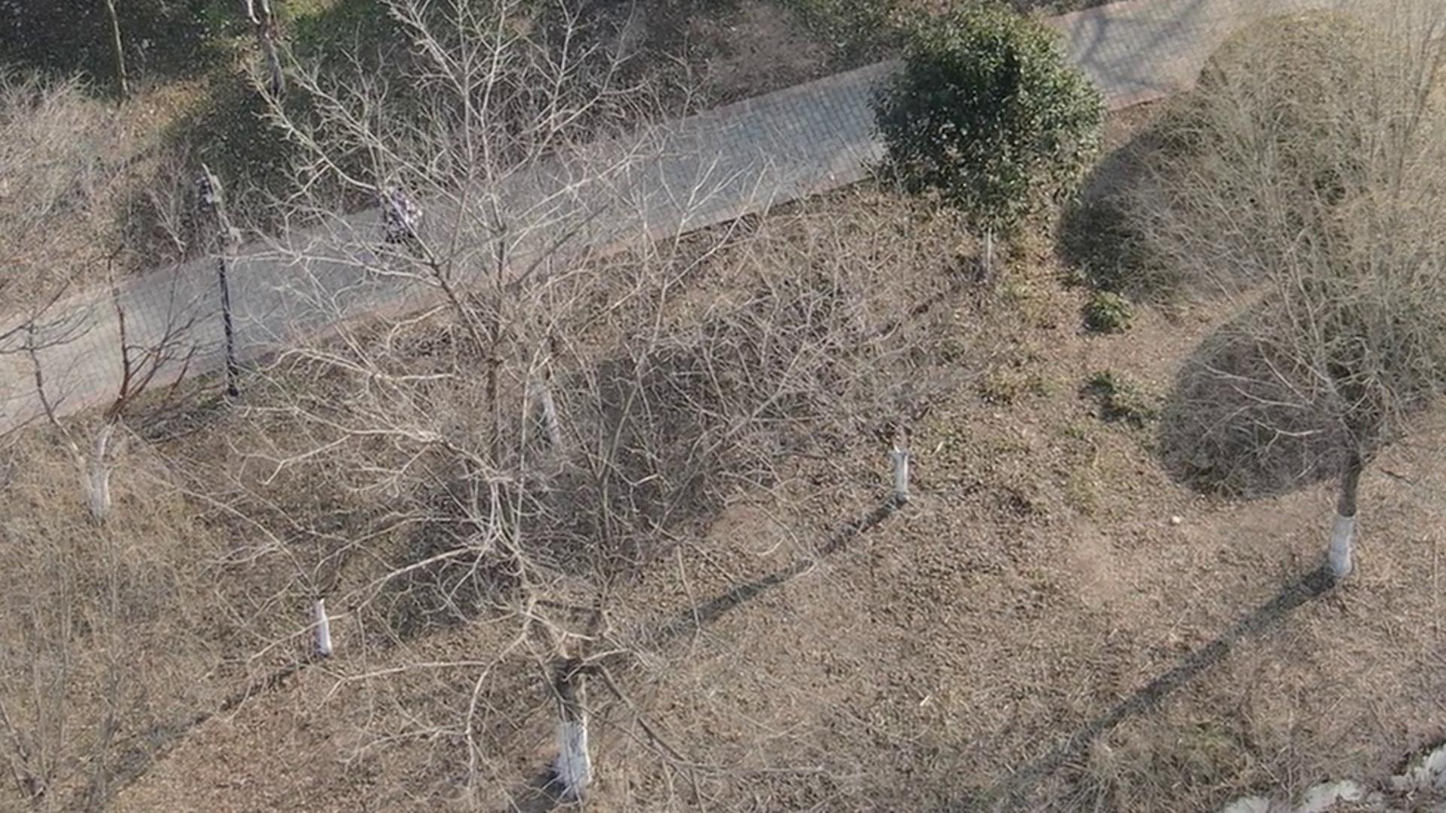human: (383, 184, 447, 284)
